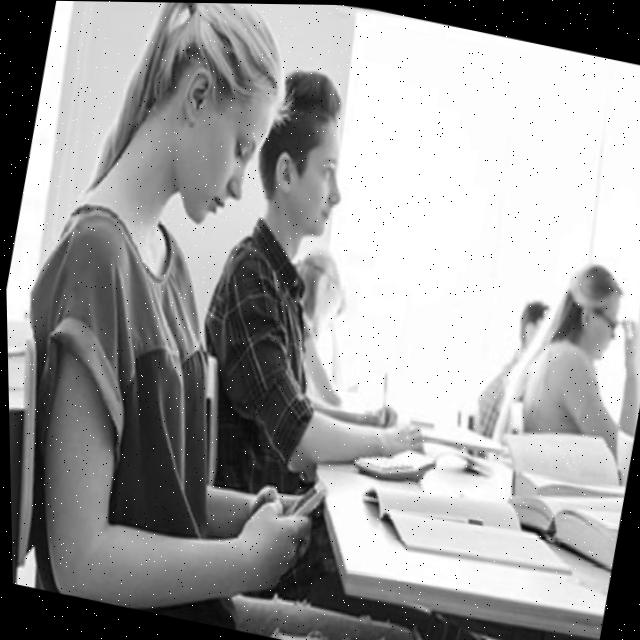phone: (276, 470, 330, 526), (619, 315, 636, 340)
